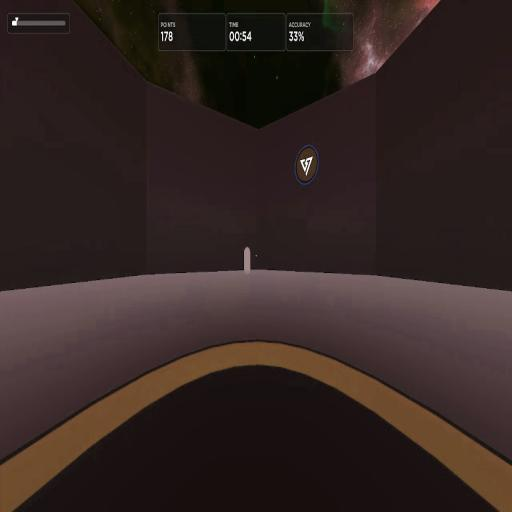Crosshair: (256, 254, 258, 258)
Target: (244, 246, 250, 276)
